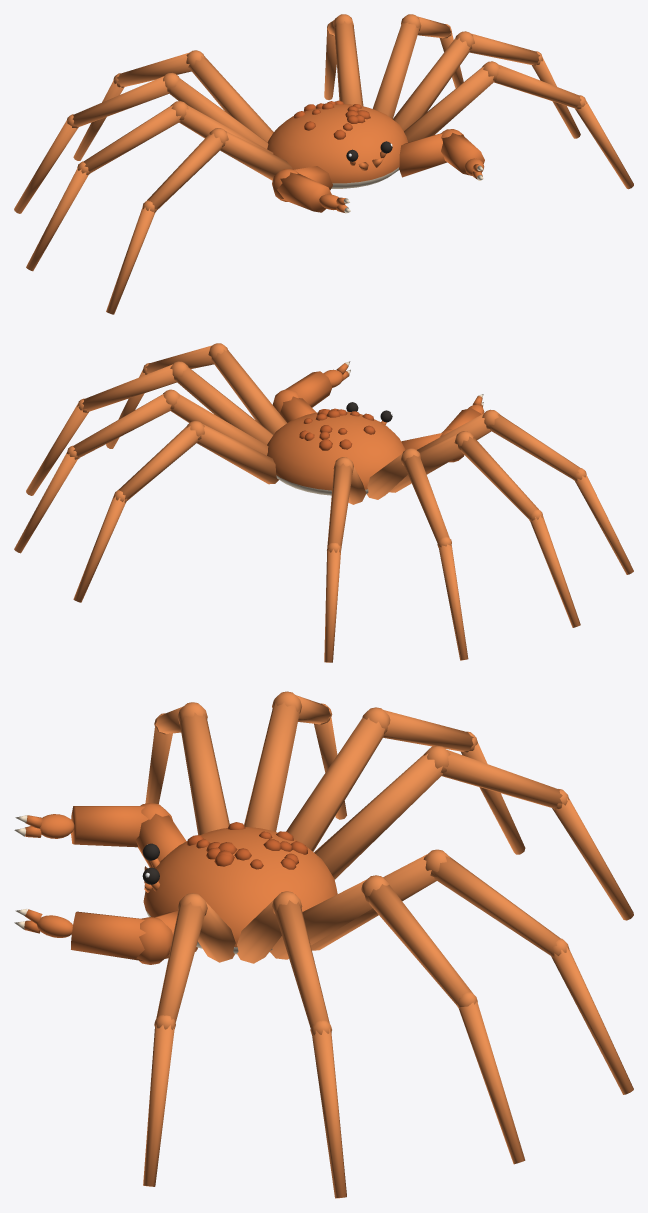
The model's file is sea-snow-crab.glb.
3 renders of one model, top to bottom at view 1: azimuth 30°, elevation 25°; view 2: azimuth 150°, elevation 25°; view 3: azimuth 270°, elevation 25°, orthographic. The views are drawn at different scales.
Visible parts, largest first — view 1: crab; view 2: crab; view 3: crab.
Boxes of the visible parts, x1,y1,x2,y2 form: crab: (14, 14, 633, 314); crab: (14, 343, 633, 662); crab: (14, 691, 633, 1198).
Bounding box in the file's own units: 0.7168 × 0.1867 × 0.4849.
